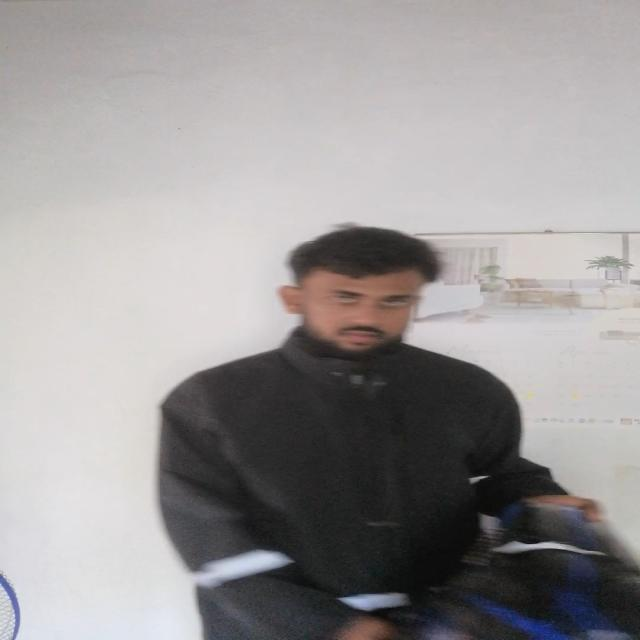Jacket_Wearer: (132, 305, 621, 640)
